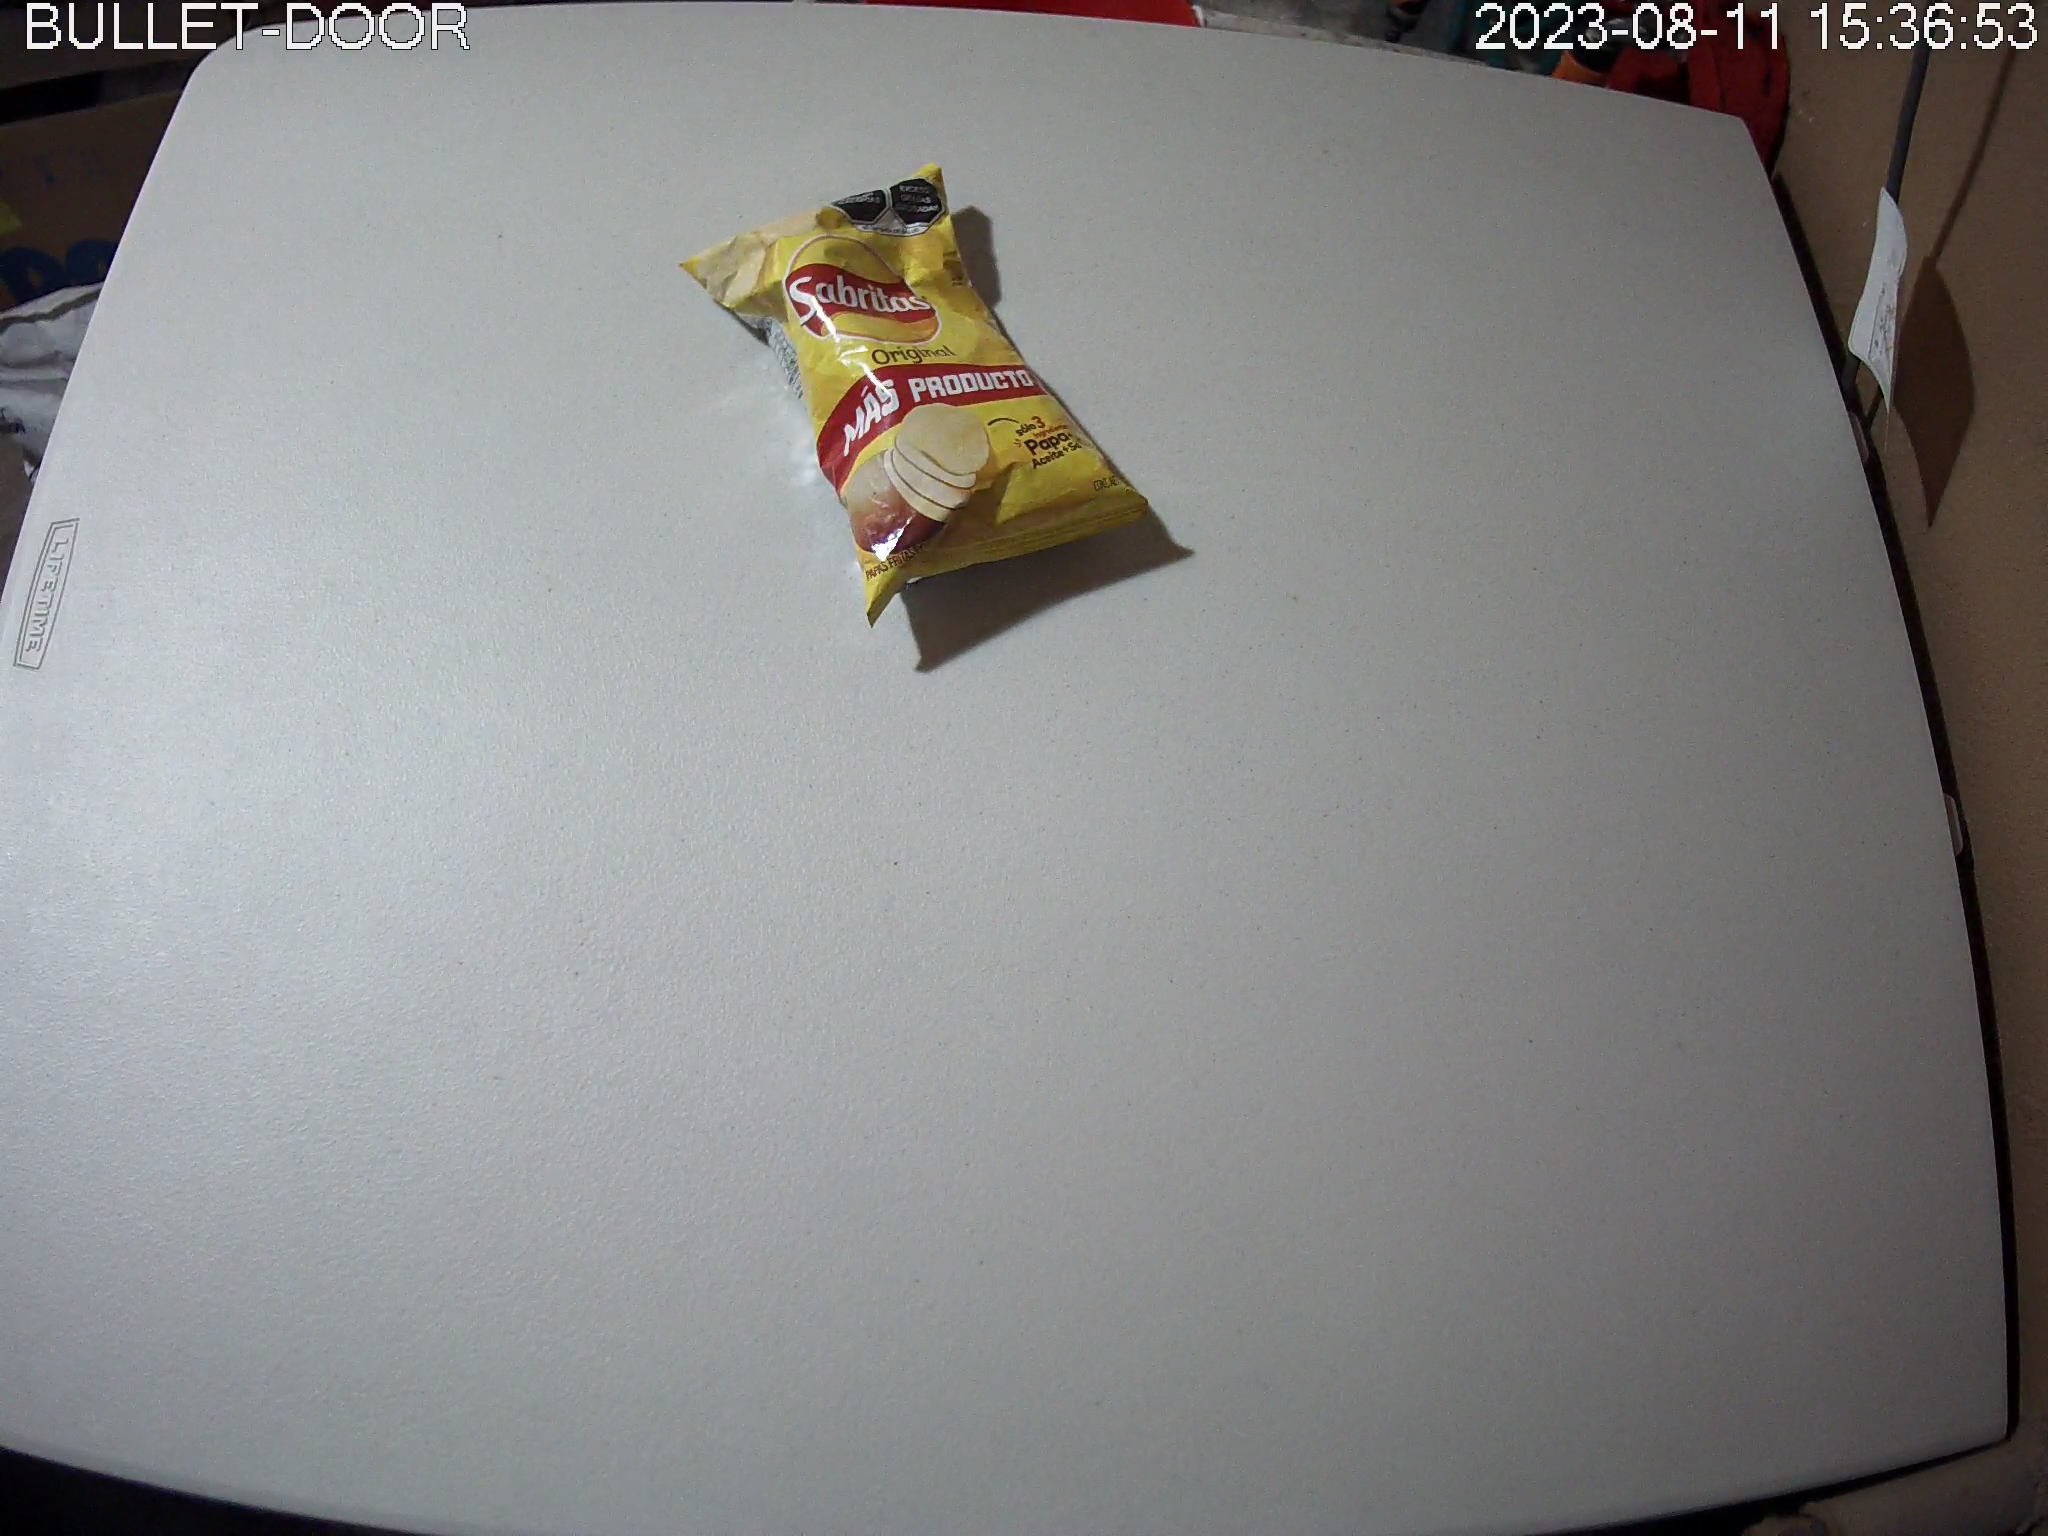Sabritas_45_F: (676, 160, 1153, 631)
